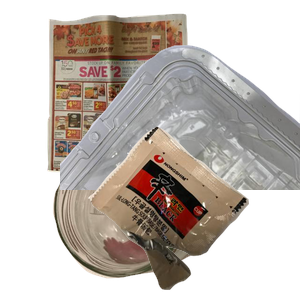glass: (50, 131, 252, 300)
paper: (44, 11, 229, 181)
plastic: (60, 43, 300, 223)
trash: (86, 124, 300, 300)
